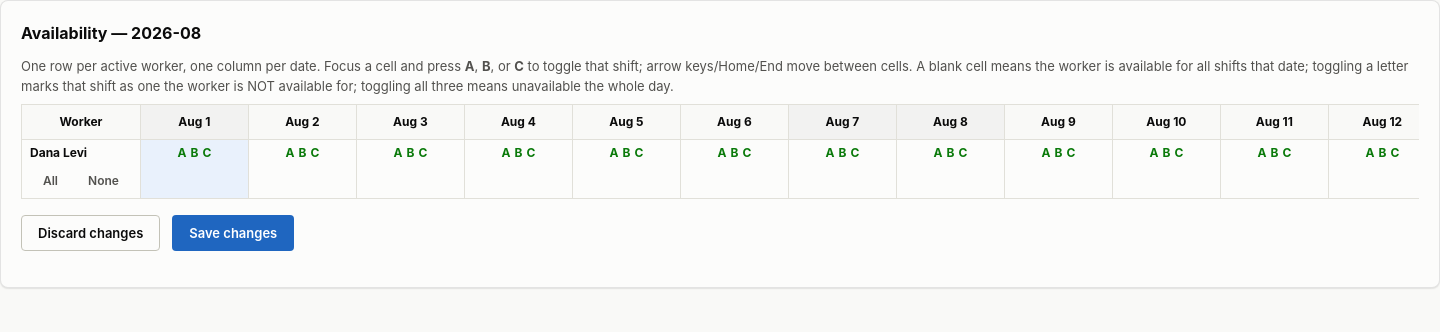
Test case: AvailabilityGrid › "None" marks a worker excluded from every shift, every date this month (fully blocked)
Click the button "None". click: [103, 180]
box: [75,166,132,194]
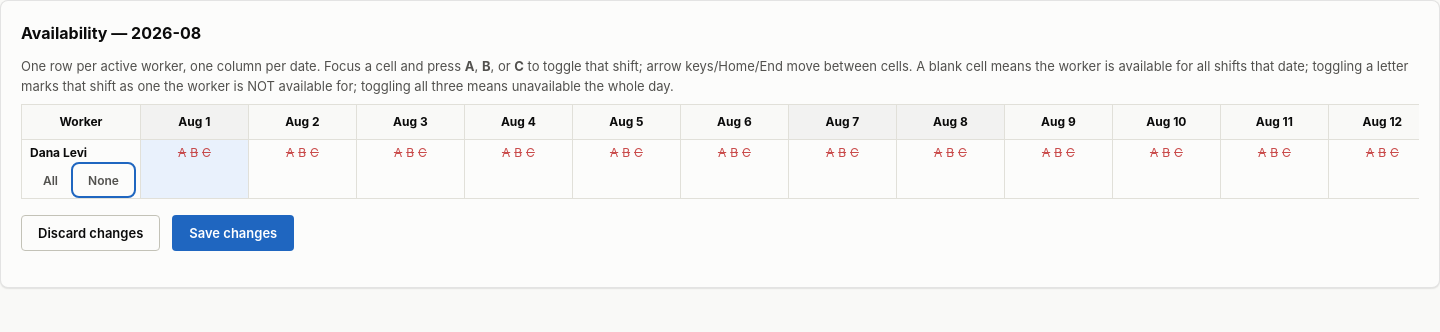
Click the button "Save changes". click: [233, 233]
box: [172,215,294,251]
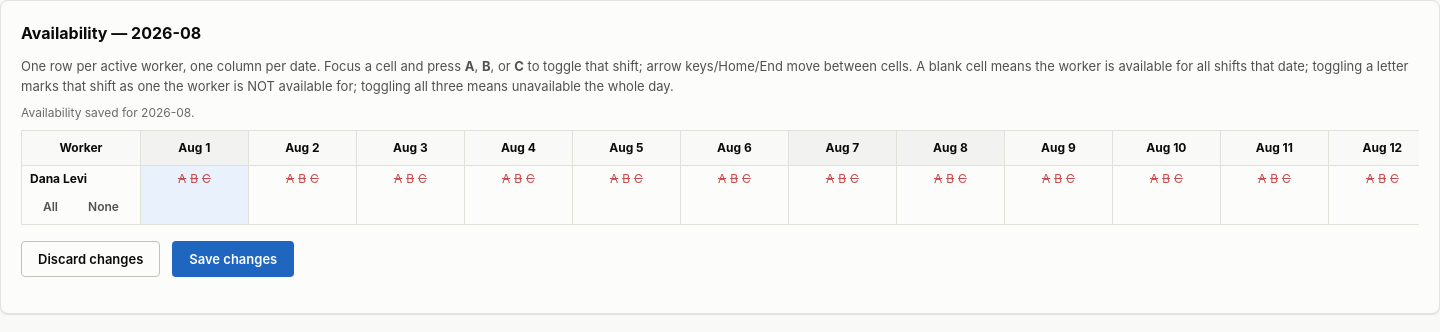
Now the text "Availability saved for 2026-08." is shown, box [21,105,194,120]
